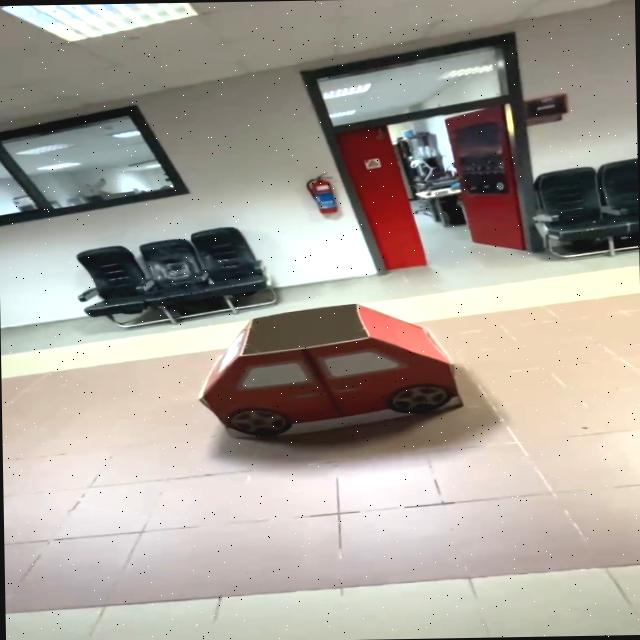red_car: (174, 284, 490, 461)
